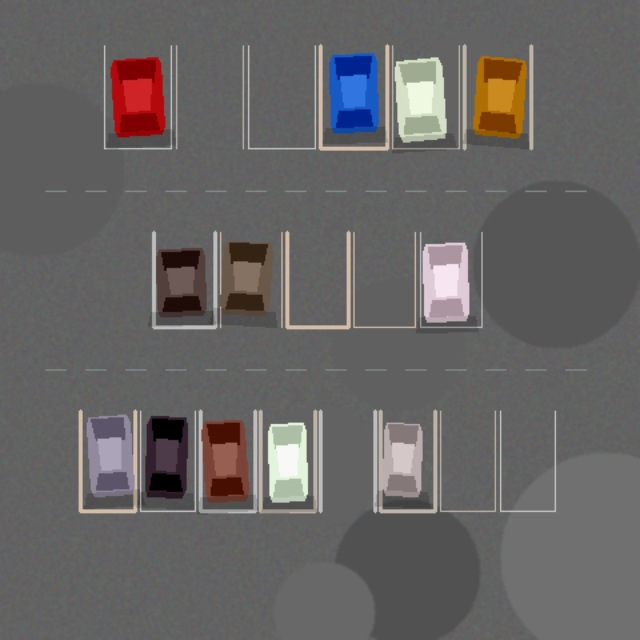space-empty: (176, 45, 243, 148), (248, 45, 315, 148), (353, 232, 415, 327), (287, 232, 348, 327), (320, 411, 375, 511), (440, 411, 495, 511), (500, 411, 555, 511)
space-occupied: (104, 45, 171, 148), (320, 45, 387, 148), (392, 45, 459, 148), (464, 45, 531, 148), (153, 232, 215, 327), (220, 232, 281, 327), (420, 232, 481, 327), (80, 411, 135, 511), (140, 411, 195, 511), (200, 411, 255, 511), (260, 411, 315, 511), (380, 411, 435, 511)
